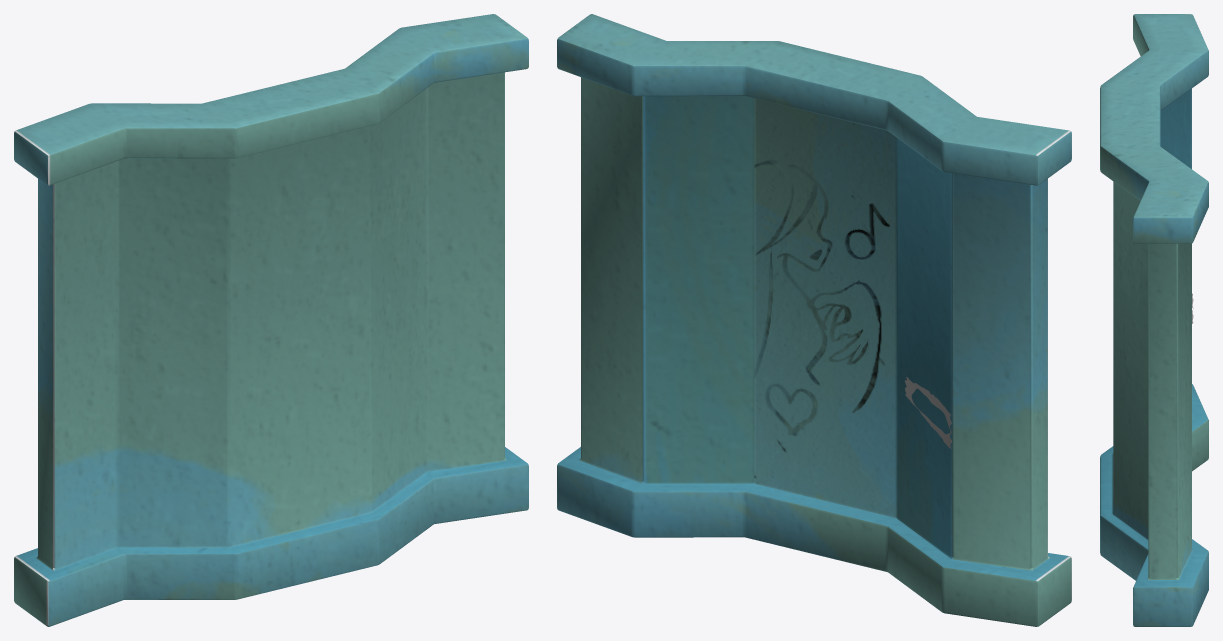
File: TOMB_WALL_3_002.obj
The picture shows the model from 3 angles, left to right: view 1: azimuth 30°, elevation 25°; view 2: azimuth 150°, elevation 25°; view 3: azimuth 270°, elevation 25°; orthographic projection. The views are drawn at different scales.
Visible parts, largest first — view 1: TOMB_WALL_3_002; view 2: TOMB_WALL_3_002; view 3: TOMB_WALL_3_002.
Part boxes in pixels (x1,y1,x2,y2): TOMB_WALL_3_002: (14,14,528,626); TOMB_WALL_3_002: (557,14,1071,626); TOMB_WALL_3_002: (1100,14,1208,626).
Bounding box in the file's own units: 3.2 × 3 × 0.7206.
